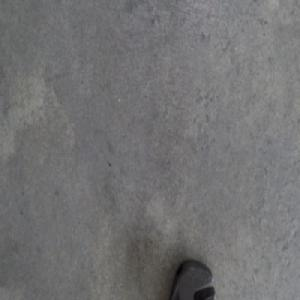AdjustableWrench: (169, 260, 215, 299)
